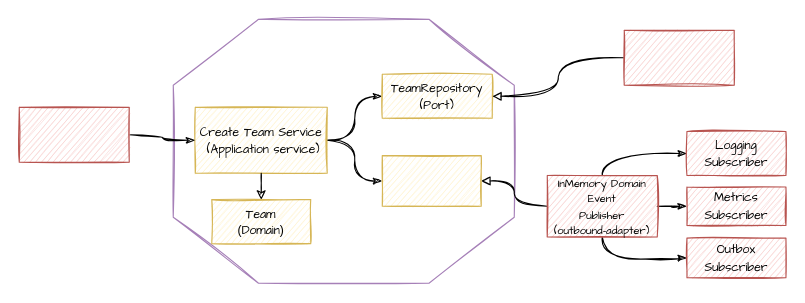
The diagram is 805 pixels wide and 303 high, and some of its shapes have lost their labels. The centre of each missing label's shape, as x and y in pixels:
Domain Event Publisher (Port): [431,180]
Postgres Team Repository (outbound-adapter): [678,57]
Teams Http Controller (inbound-adapter): [73,134]
